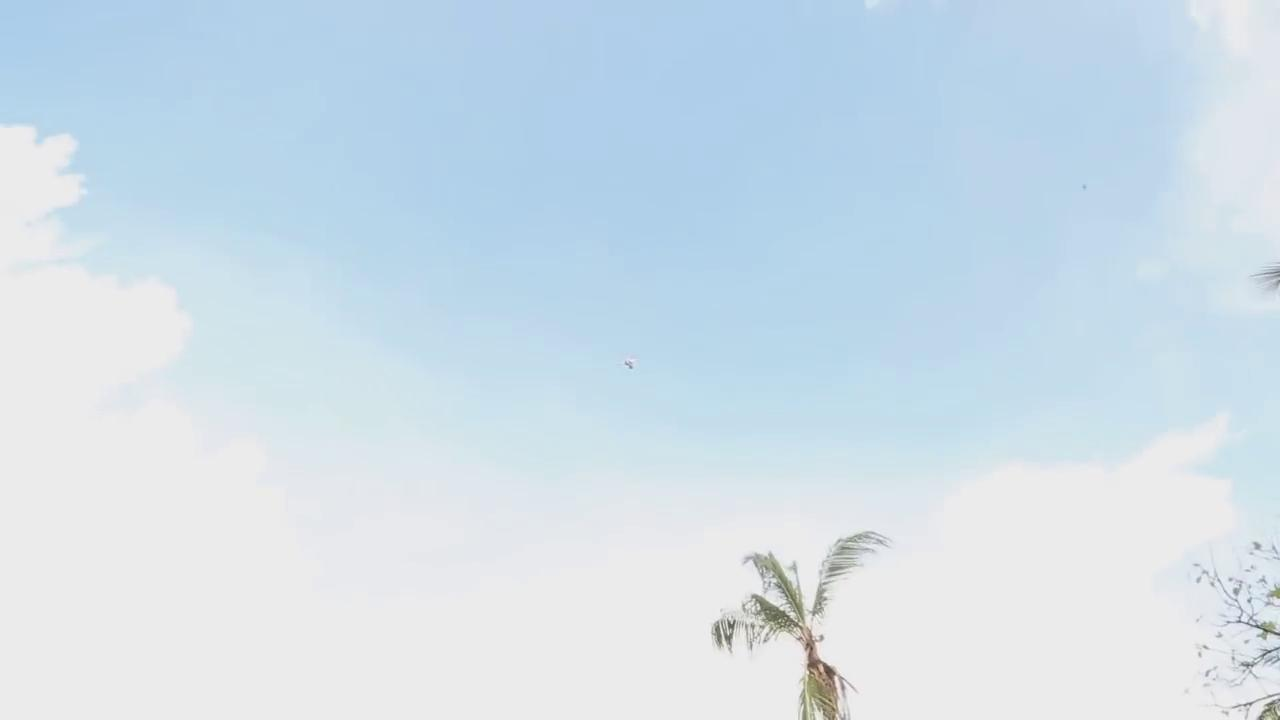drone: (620, 348, 647, 375)
